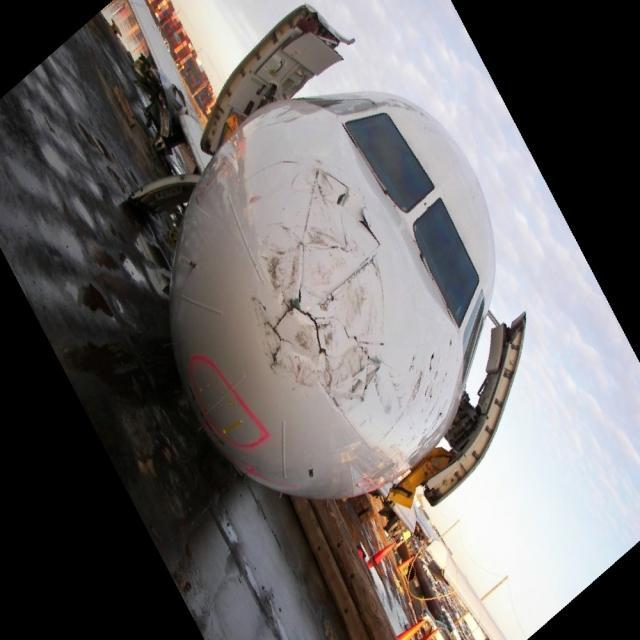crack: (249, 168, 394, 407)
